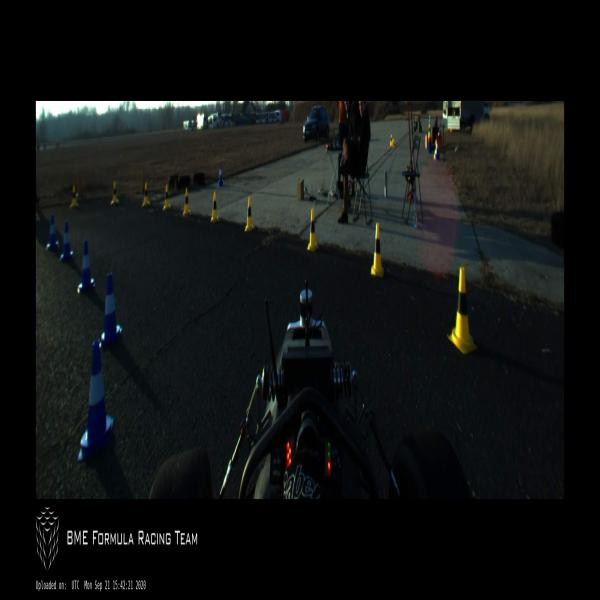blue_cone: (77, 341, 114, 462), (100, 275, 122, 350), (78, 240, 95, 294), (59, 221, 74, 261), (46, 216, 58, 250), (435, 138, 440, 159), (219, 164, 223, 182)
yellow_cone: (448, 267, 479, 355), (370, 223, 384, 277), (306, 210, 318, 252), (245, 196, 254, 231), (210, 191, 218, 222), (142, 182, 150, 205), (183, 189, 190, 215), (163, 185, 170, 209), (70, 186, 78, 206), (111, 182, 118, 204), (428, 124, 431, 138), (434, 140, 436, 160), (390, 134, 393, 147)
